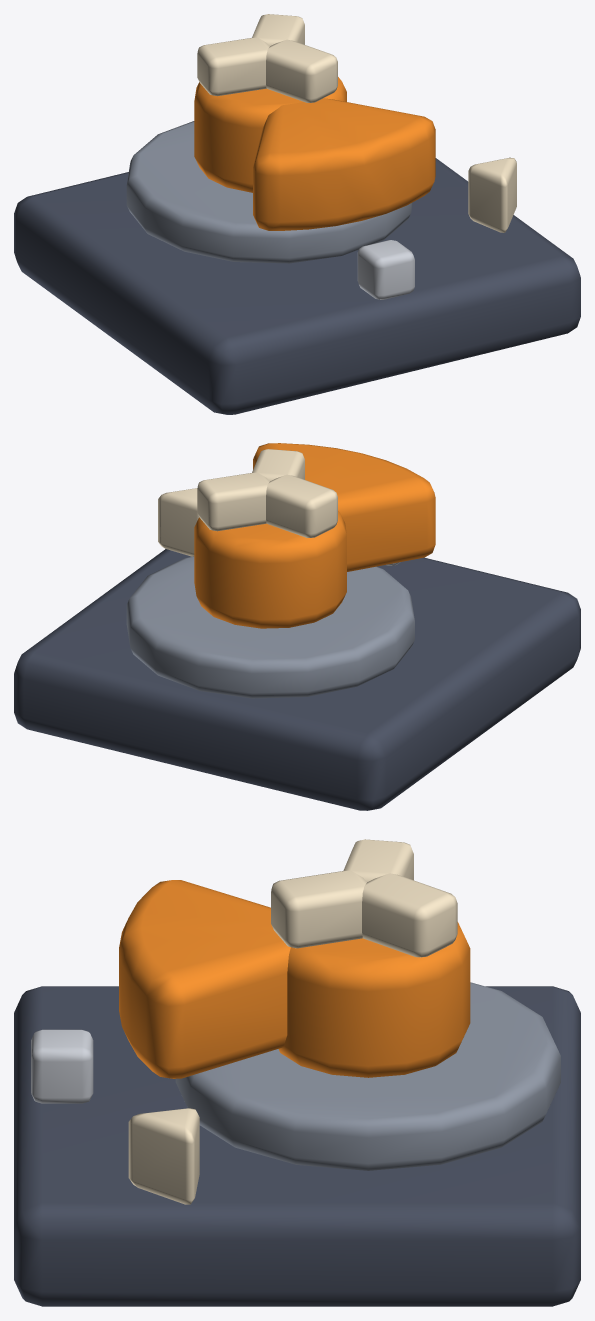
File: Ctrl_Stir.glb
3 views of the same model, one above another, from view 1: azimuth 30°, elevation 25°; view 2: azimuth 150°, elevation 25°; view 3: azimuth 270°, elevation 25° (orthographic). The views are drawn at different scales.
Visible parts, largest first — view 1: Ctrl_Stir.Base, Ctrl_Stir.Move_Knob, Ctrl_Stir.Dial, Ctrl_Stir.Marks; view 2: Ctrl_Stir.Base, Ctrl_Stir.Move_Knob, Ctrl_Stir.Dial, Ctrl_Stir.Marks; view 3: Ctrl_Stir.Base, Ctrl_Stir.Move_Knob, Ctrl_Stir.Dial, Ctrl_Stir.Marks.
Part boxes in pixels (left/top/right/bottom): Ctrl_Stir.Base: left=14, top=158, right=580, bottom=414; Ctrl_Stir.Move_Knob: left=194, top=14, right=435, bottom=230; Ctrl_Stir.Dial: left=126, top=121, right=412, bottom=263; Ctrl_Stir.Marks: left=357, top=157, right=516, bottom=299; Ctrl_Stir.Base: left=14, top=549, right=580, bottom=810; Ctrl_Stir.Move_Knob: left=194, top=443, right=435, bottom=628; Ctrl_Stir.Dial: left=126, top=556, right=414, bottom=698; Ctrl_Stir.Marks: left=158, top=488, right=400, bottom=565; Ctrl_Stir.Base: left=14, top=986, right=580, bottom=1306; Ctrl_Stir.Move_Knob: left=119, top=839, right=470, bottom=1078; Ctrl_Stir.Dial: left=175, top=982, right=560, bottom=1170; Ctrl_Stir.Marks: left=31, top=1029, right=199, bottom=1204.
Bounding box in the file's own units: 0.2 × 0.125 × 0.2.
1 material, 1 textured.
